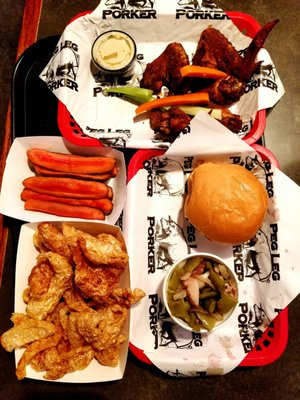curry: (1, 10, 299, 396)
